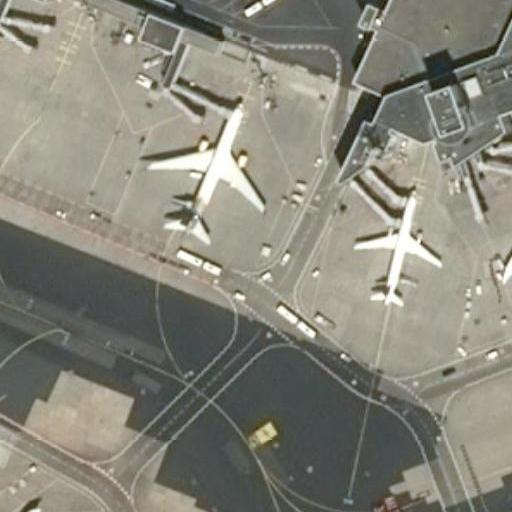Aircraft: (143, 96, 266, 242), (353, 184, 444, 307), (0, 504, 97, 512)
